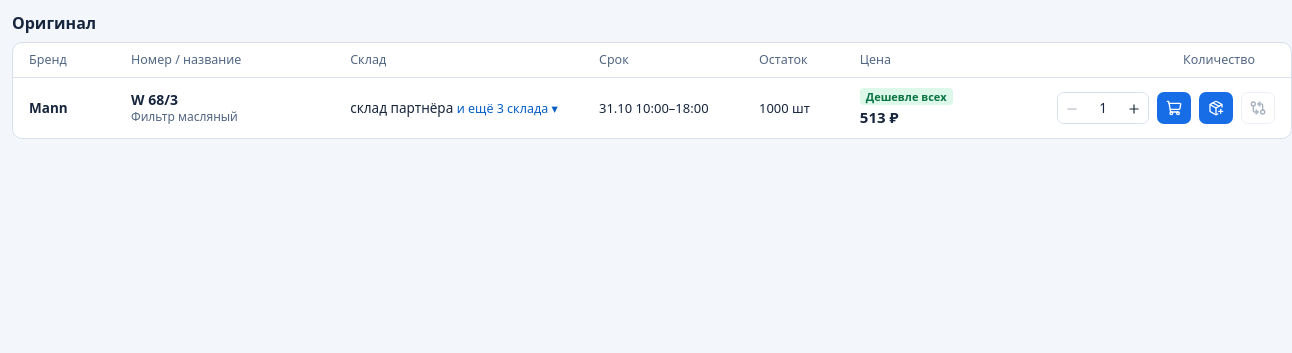
it: PartTable › marks the current offer when it is the best one
Expected: the text "Дешевле всех" is shown, [860,88,953,105]
Expected: the text "Быстрее всех" is not shown
Click the button "и ещё 3 склада ▾" at (507, 108), box [457,100,558,117]
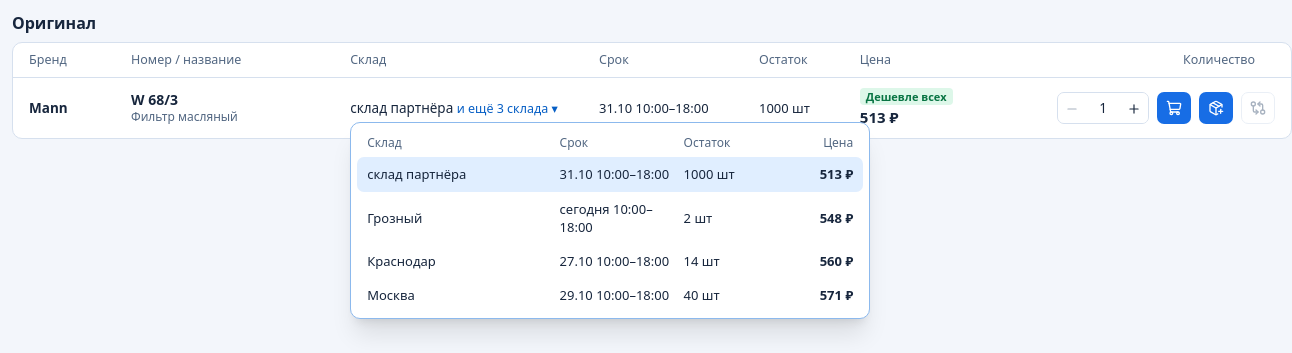
Click the option "Грозный сегодня 10:00–18:00 2 шт 548 ₽" at (610, 218), box [357,192,863,244]
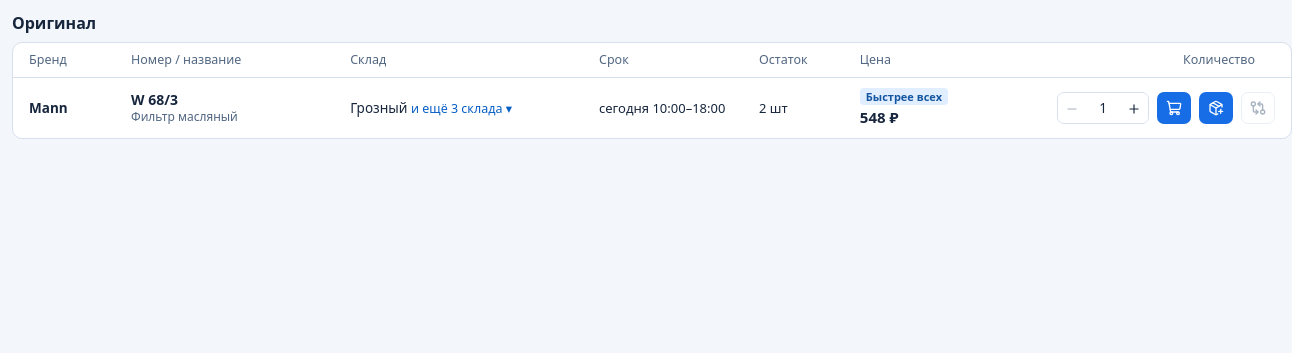
Result: the text "Быстрее всех" is shown at [860,88,948,105]
Result: the text "Дешевле всех" is gone
